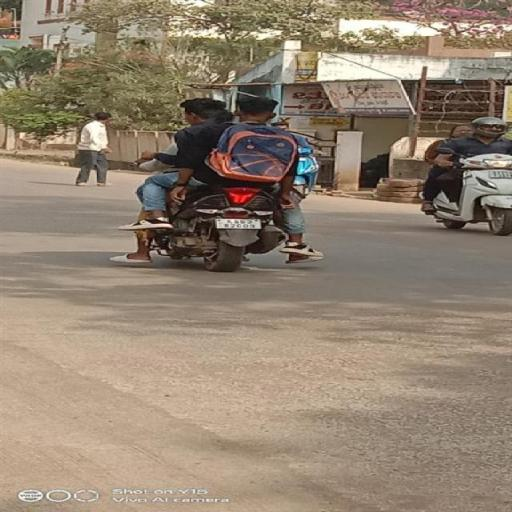tripple riding: (132, 90, 322, 195)
